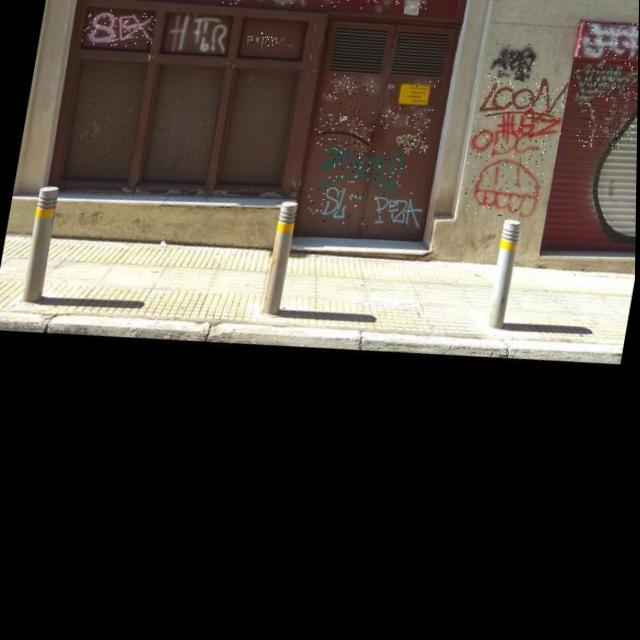-: (98, 0, 388, 44), (460, 132, 552, 236), (304, 183, 428, 249), (478, 80, 570, 140), (318, 148, 411, 203), (576, 97, 638, 168), (80, 4, 158, 56), (571, 66, 639, 119), (166, 12, 233, 64), (578, 29, 640, 84), (312, 111, 378, 161), (484, 50, 540, 100), (498, 117, 566, 158), (244, 34, 294, 61), (394, 138, 432, 168), (384, 0, 433, 23), (380, 109, 411, 143), (330, 78, 362, 107), (408, 113, 434, 146), (359, 80, 386, 109), (408, 84, 439, 102), (320, 96, 344, 115)
